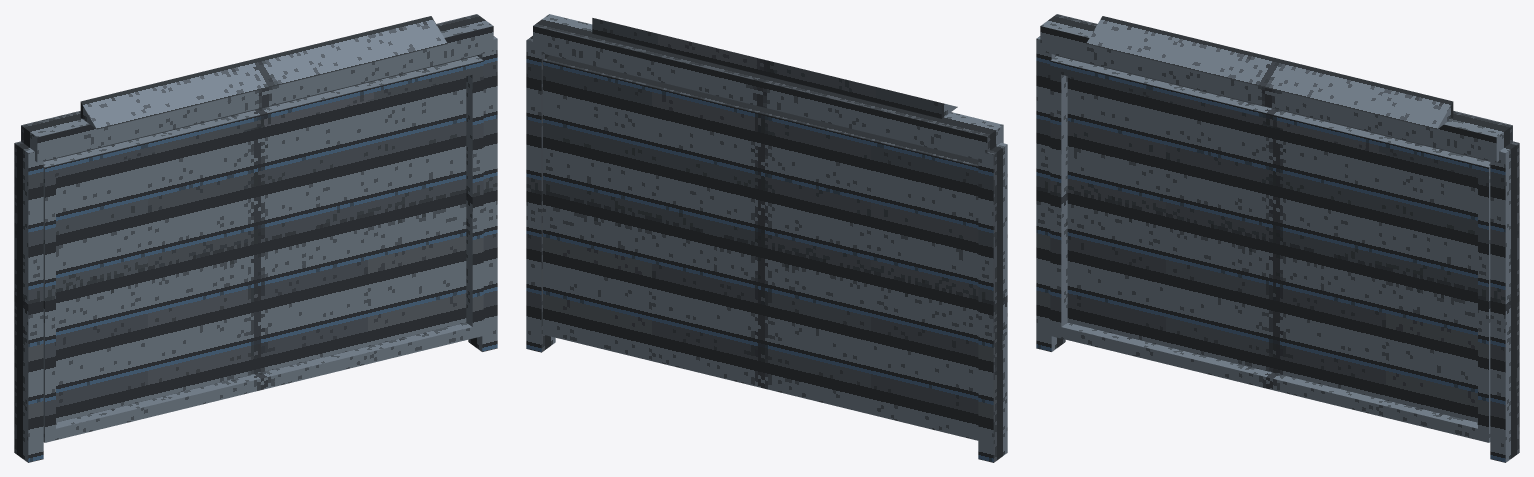
The model's file is hub_controls_board.glb.
3 views of the same model, side by side, from view 1: azimuth 30°, elevation 25°; view 2: azimuth 150°, elevation 25°; view 3: azimuth 330°, elevation 25° (orthographic).
Parts seen in each view (by area): view 1: hub_controls_board; view 2: hub_controls_board; view 3: hub_controls_board.
Boxes of the visible parts, x1=… form: hub_controls_board: x1=14, y1=14, x2=497, y2=462; hub_controls_board: x1=526, y1=14, x2=1007, y2=462; hub_controls_board: x1=1036, y1=14, x2=1519, y2=462.
Size of the model in its own units: 4.28 by 2.98 by 0.37.
Materials: 1 (1 with a texture image).
